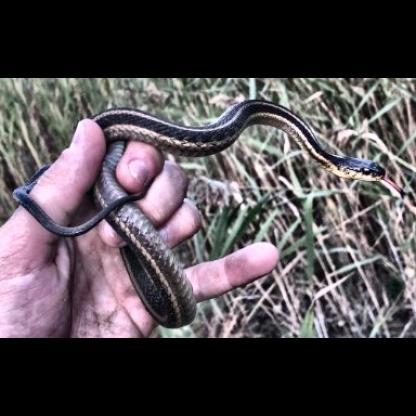Snake: (27, 98, 383, 324)
